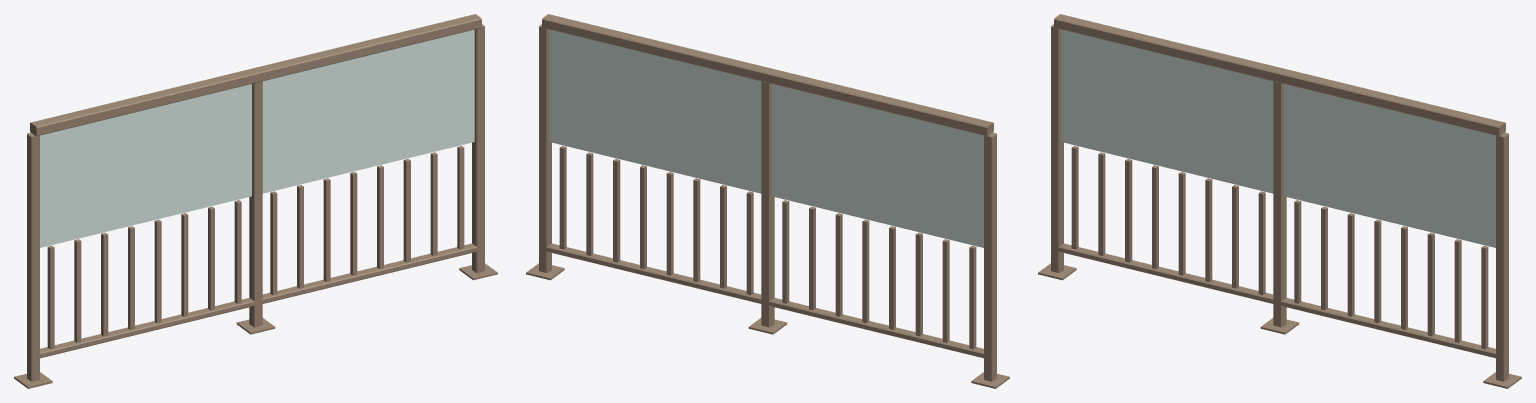
The model's file is gc-s80b-mixte-200-quartz-1019.glb.
The picture shows the model from 3 angles, left to right: view 1: azimuth 30°, elevation 25°; view 2: azimuth 150°, elevation 25°; view 3: azimuth 330°, elevation 25°; orthographic projection.
Visible parts, largest first — view 1: verre, structure; view 2: verre, structure; view 3: verre, structure.
Part boxes in pixels (x1,y1,x2,y2): verre: (40, 29, 474, 247); structure: (14, 14, 497, 388); verre: (549, 29, 983, 247); structure: (526, 14, 1009, 388); verre: (1061, 29, 1495, 247); structure: (1038, 14, 1521, 388).
Bounding box in the file's own units: 2.11 × 1.1 × 0.11.
